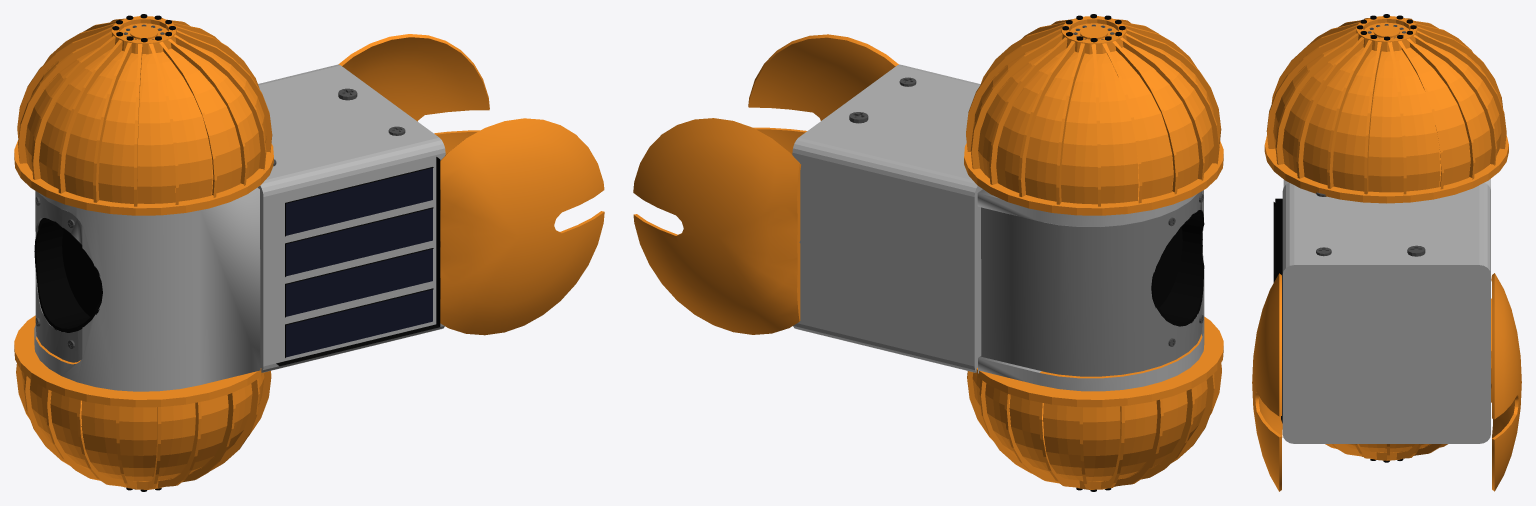
File: moon_rober_sim.glb
The picture shows the model from 3 angles, left to right: view 1: azimuth 30°, elevation 25°; view 2: azimuth 150°, elevation 25°; view 3: azimuth 270°, elevation 25°; orthographic projection. The views are drawn at different scales.
Parts seen in each view (by area): view 1: mainbody, wheel_r, wheel_l; view 2: mainbody, wheel_r, wheel_l; view 3: mainbody, wheel_r, wheel_l.
Boxes of the visible parts, box(x1,y1,x2,y2) form: mainbody: box(34, 34, 604, 391); wheel_r: box(14, 14, 273, 215); wheel_l: box(14, 315, 271, 491); mainbody: box(633, 34, 1204, 391); wheel_r: box(964, 14, 1223, 215); wheel_l: box(967, 316, 1223, 491); mainbody: box(1252, 179, 1521, 491); wheel_r: box(1264, 14, 1508, 203); wheel_l: box(1325, 298, 1491, 462).
Size of the model in its own units: 0.6365 by 0.532 by 0.307.
